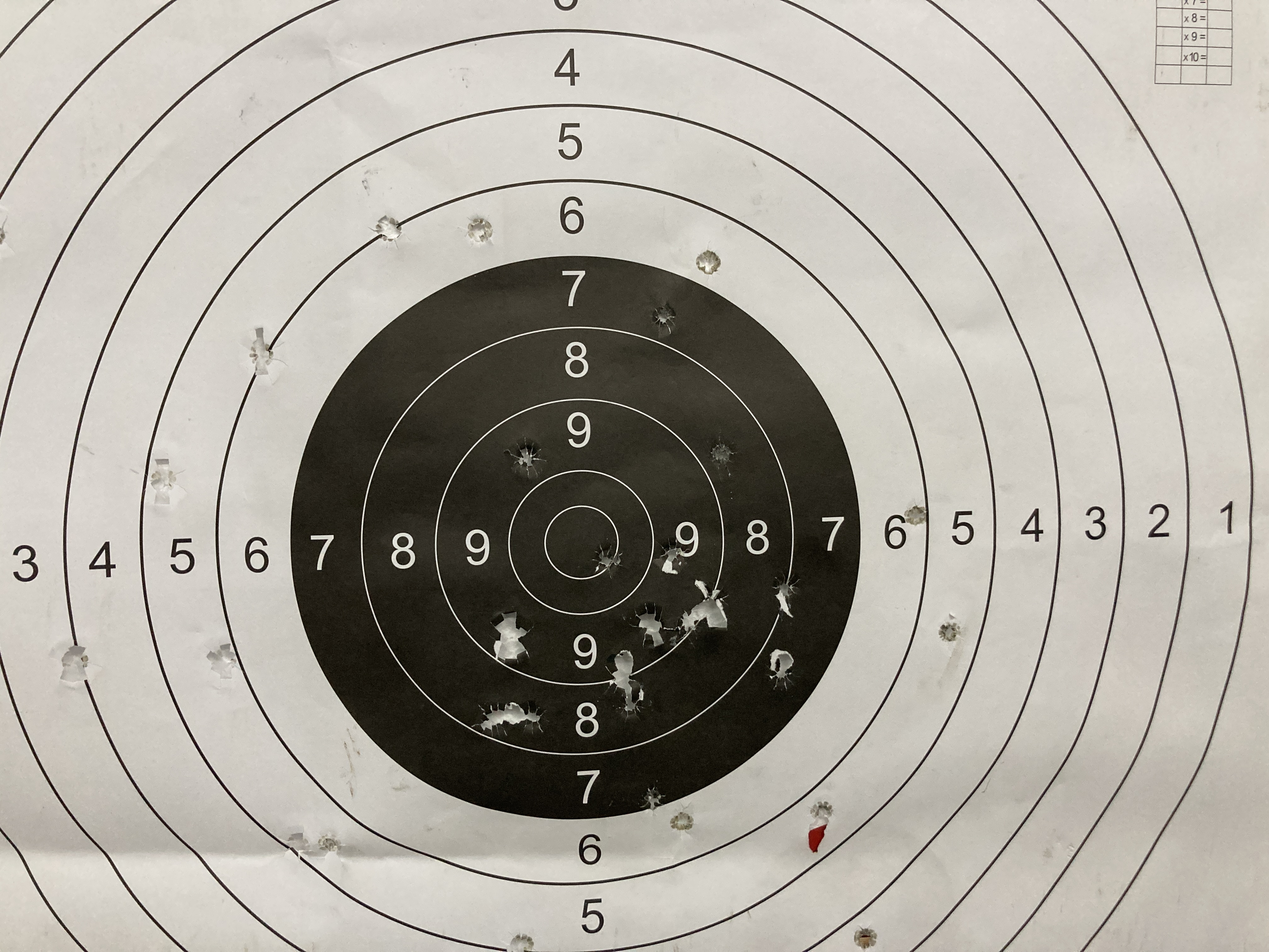hole: (47, 640, 109, 708), (479, 605, 539, 672), (691, 587, 743, 647), (200, 635, 257, 689), (610, 686, 676, 731), (800, 797, 847, 856), (271, 814, 321, 869), (133, 456, 187, 504), (514, 694, 560, 750), (361, 205, 412, 255), (240, 331, 292, 380), (502, 430, 548, 484), (687, 239, 736, 287), (649, 296, 694, 345), (469, 692, 516, 738), (765, 568, 815, 610), (634, 602, 676, 649), (462, 205, 502, 254), (598, 647, 650, 684), (664, 812, 711, 847), (901, 496, 943, 535), (702, 432, 739, 476), (655, 536, 691, 580), (766, 647, 800, 692), (850, 919, 896, 952), (591, 543, 628, 582), (497, 929, 543, 952), (936, 614, 966, 647), (632, 785, 664, 814)
